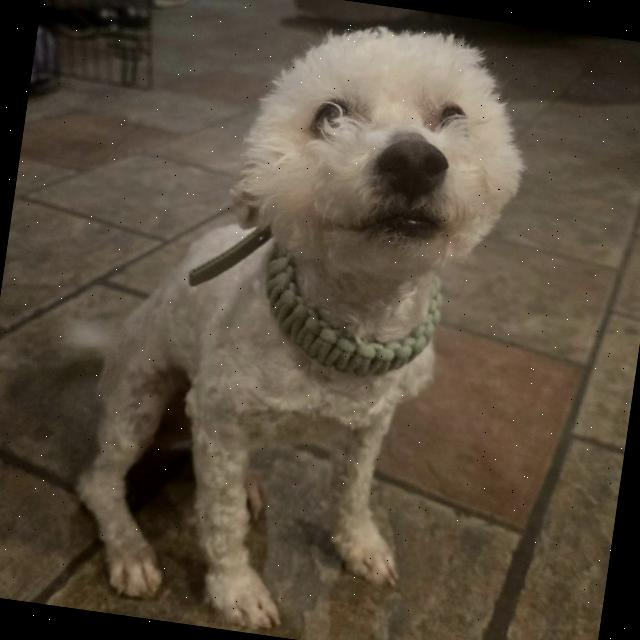Poodle_dog: (201, 0, 553, 316)
